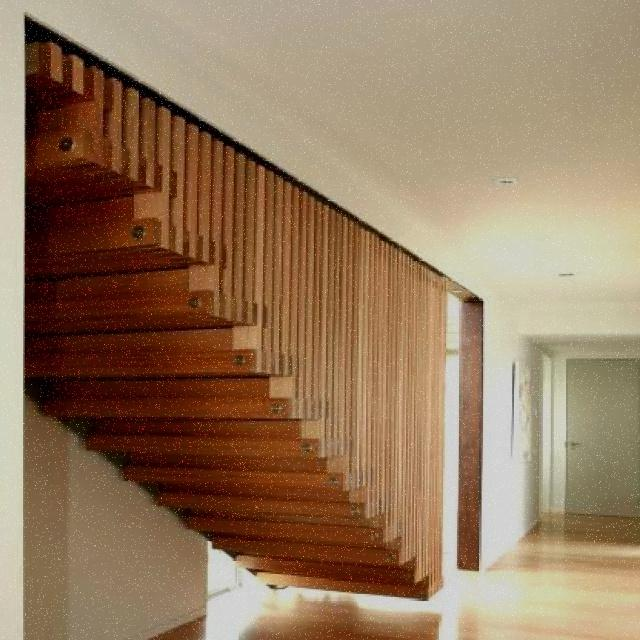stair: (38, 90, 460, 616)
